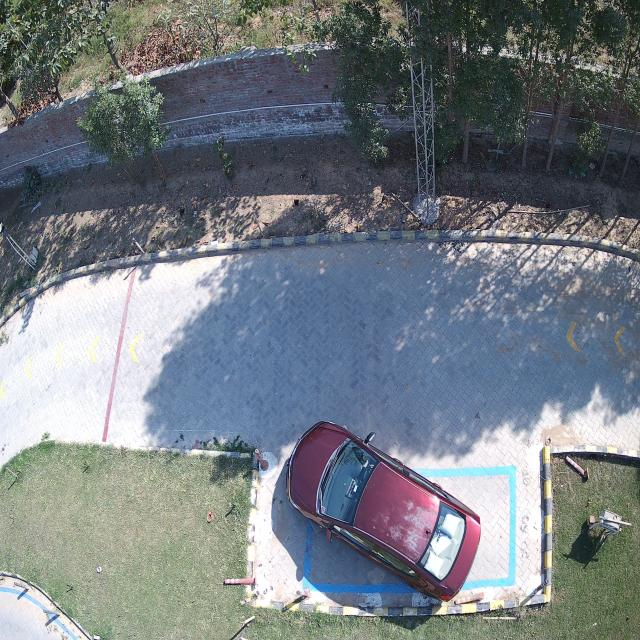car: (286, 422, 481, 600)
